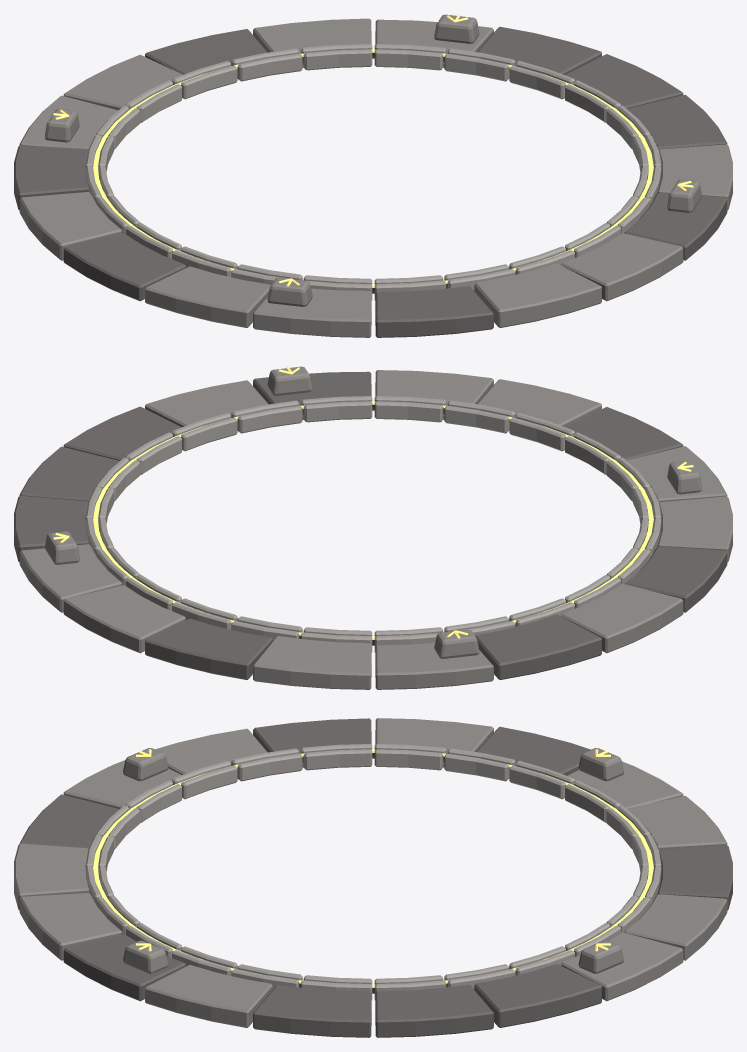
The model's file is summoning_ring.glb.
The picture shows the model from 3 angles, top to bottom: view 1: azimuth 30°, elevation 25°; view 2: azimuth 150°, elevation 25°; view 3: azimuth 270°, elevation 25°; orthographic projection.
Parts seen in each view (by area): view 1: ring; view 2: ring; view 3: ring.
Part boxes in pixels (bbox=[...]): ring: bbox=[14, 14, 732, 337]; ring: bbox=[14, 366, 732, 689]; ring: bbox=[14, 718, 732, 1037].
Size of the model in its own units: 5.7 by 0.327 by 5.69.
